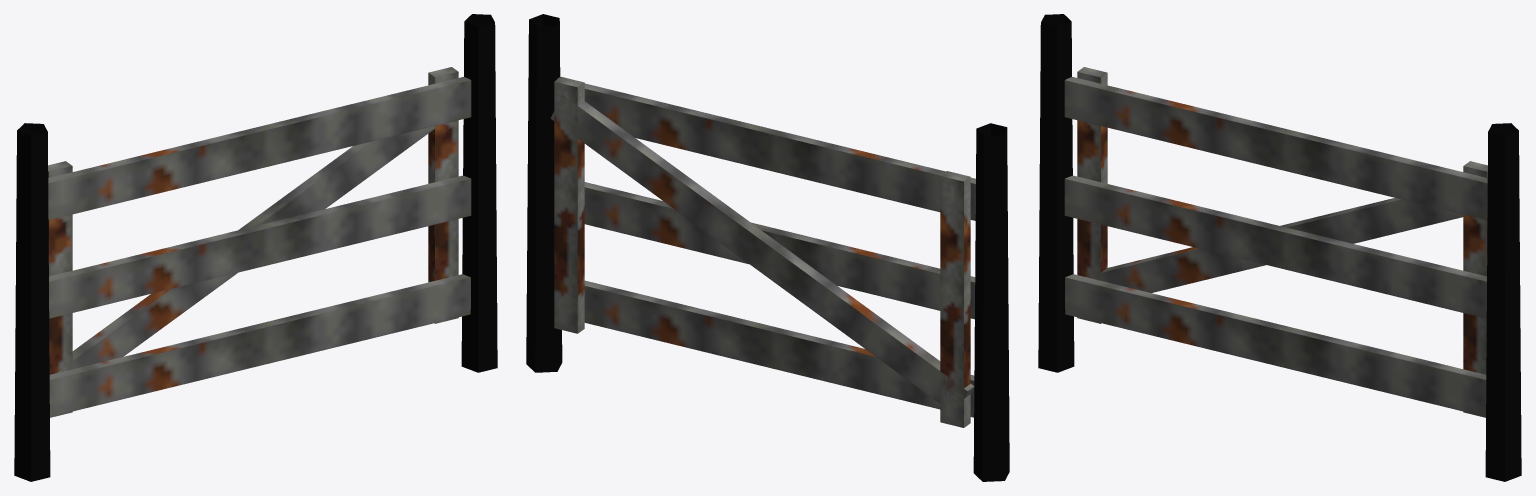
The model's file is SM_fence_gate.fbx.
The picture shows the model from 3 angles, left to right: view 1: azimuth 30°, elevation 25°; view 2: azimuth 150°, elevation 25°; view 3: azimuth 330°, elevation 25°; orthographic projection.
Visible parts, largest first — view 1: fence_gate_leaf, fence_gate; view 2: fence_gate_leaf, fence_gate; view 3: fence_gate_leaf, fence_gate.
Boxes of the visible parts, <box> form: fence_gate_leaf: <box>48,67,471,417</box>; fence_gate: <box>14,14,497,481</box>; fence_gate_leaf: <box>550,77,975,427</box>; fence_gate: <box>526,14,1009,481</box>; fence_gate_leaf: <box>1064,67,1487,417</box>; fence_gate: <box>1038,14,1521,481</box>.
Bounding box in the file's own units: 2.03 × 1.4 × 0.1266.
